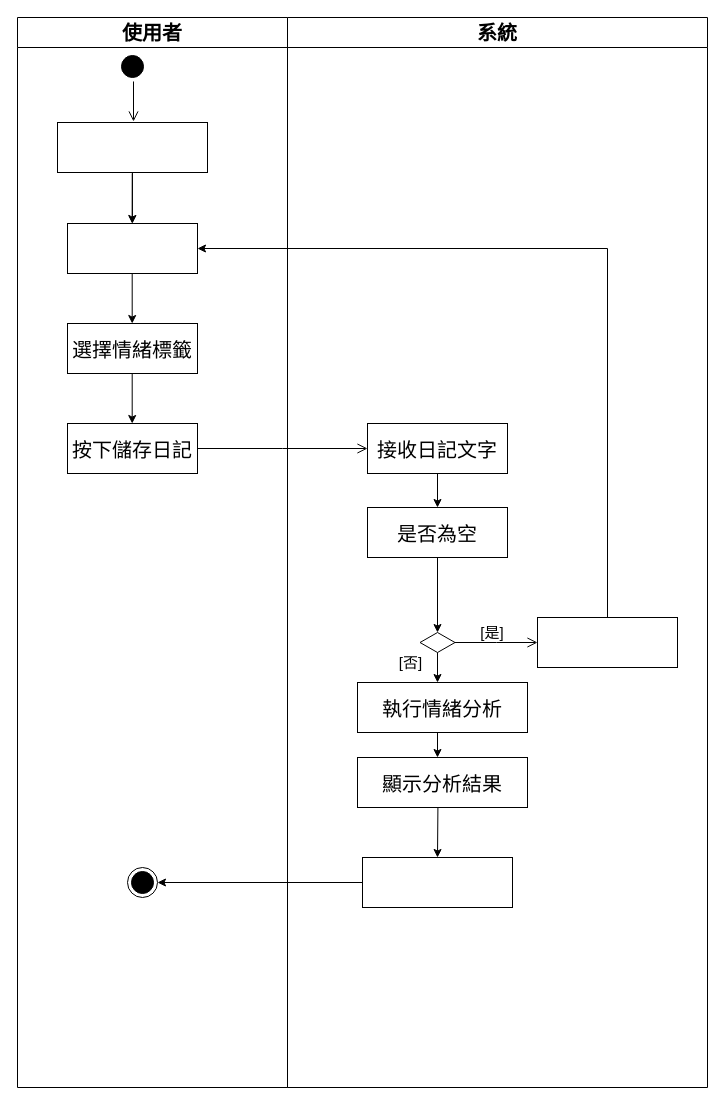
Some shapes in this 725 by 1105 pixel diagram are drawn without their labels. Here are the shapes that lost their labels. From the top down, the box of each, then its label:
(56, 122, 208, 172): 點選寫今日日記
(66, 222, 198, 274): 輸入日記內容
(536, 616, 678, 668): 顯示請輸入日記 內容或情緒狀態
(362, 856, 512, 908): 儲存日記與結果
